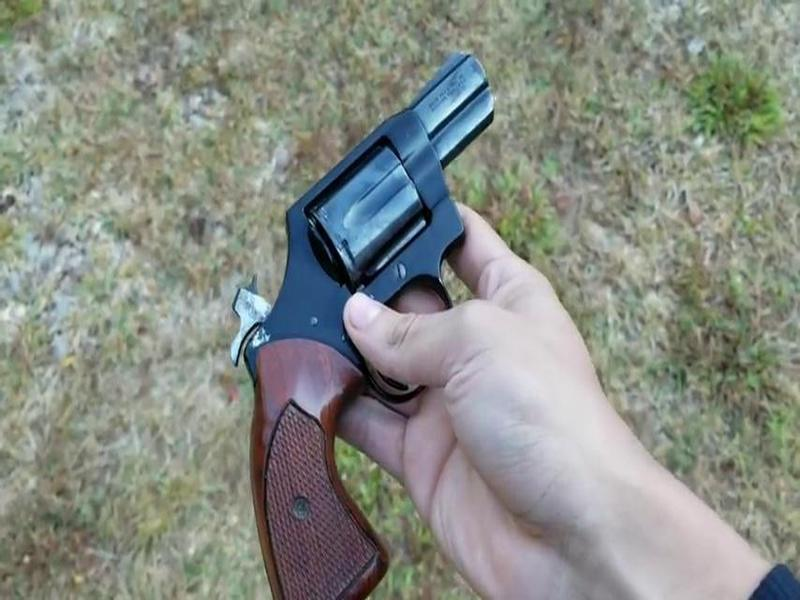Revolver: (226, 43, 501, 579)
